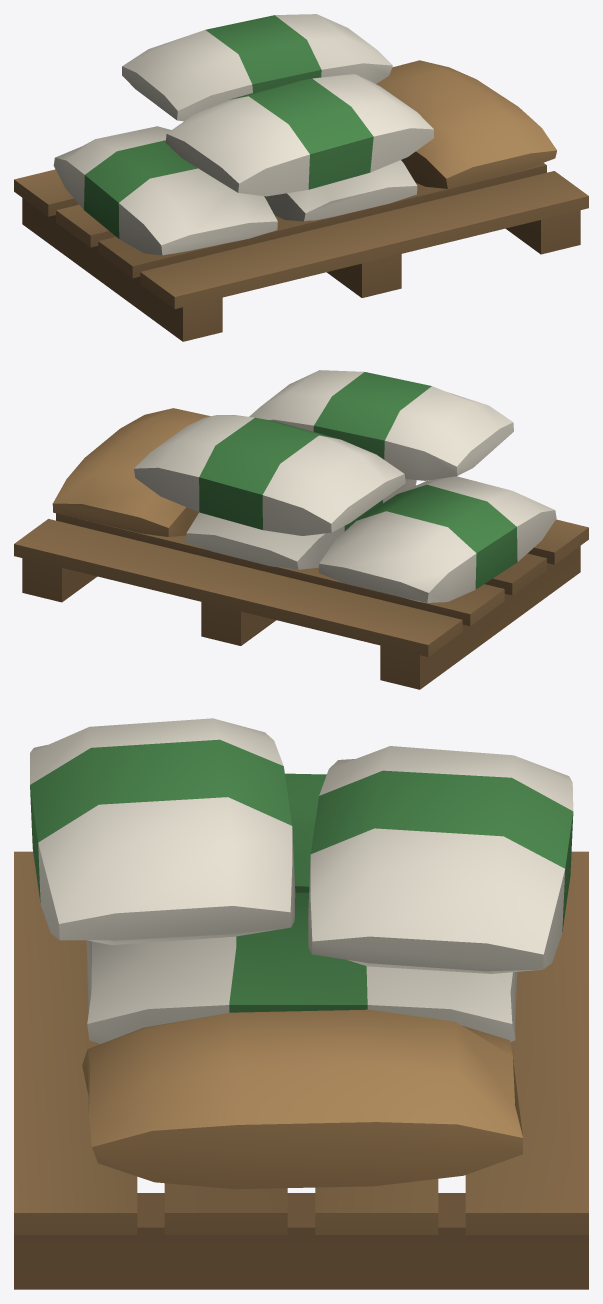
File: karung_tumpuk.glb
The picture shows the model from 3 angles, top to bottom: view 1: azimuth 30°, elevation 25°; view 2: azimuth 150°, elevation 25°; view 3: azimuth 270°, elevation 25°; orthographic projection. The views are drawn at different scales.
Parts seen in each view (by area): view 1: karung_tumpuk_mesh; view 2: karung_tumpuk_mesh; view 3: karung_tumpuk_mesh.
Part boxes in pixels (box(x1,y1,x2,y2)): karung_tumpuk_mesh: box(14, 14, 588, 341); karung_tumpuk_mesh: box(14, 370, 588, 689); karung_tumpuk_mesh: box(14, 718, 588, 1289).
Size of the model in its own units: 1.25 by 0.5002 by 0.84.
